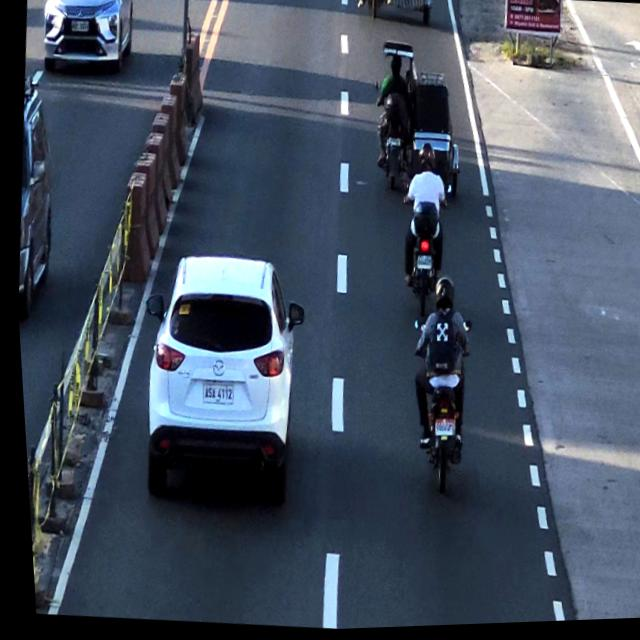Car: (127, 250, 308, 499)
License-Plate: (196, 381, 233, 410), (424, 415, 456, 443), (410, 253, 432, 274)
Motorcycle: (394, 281, 482, 495), (392, 145, 449, 312)
Tricycle: (368, 45, 469, 178)
